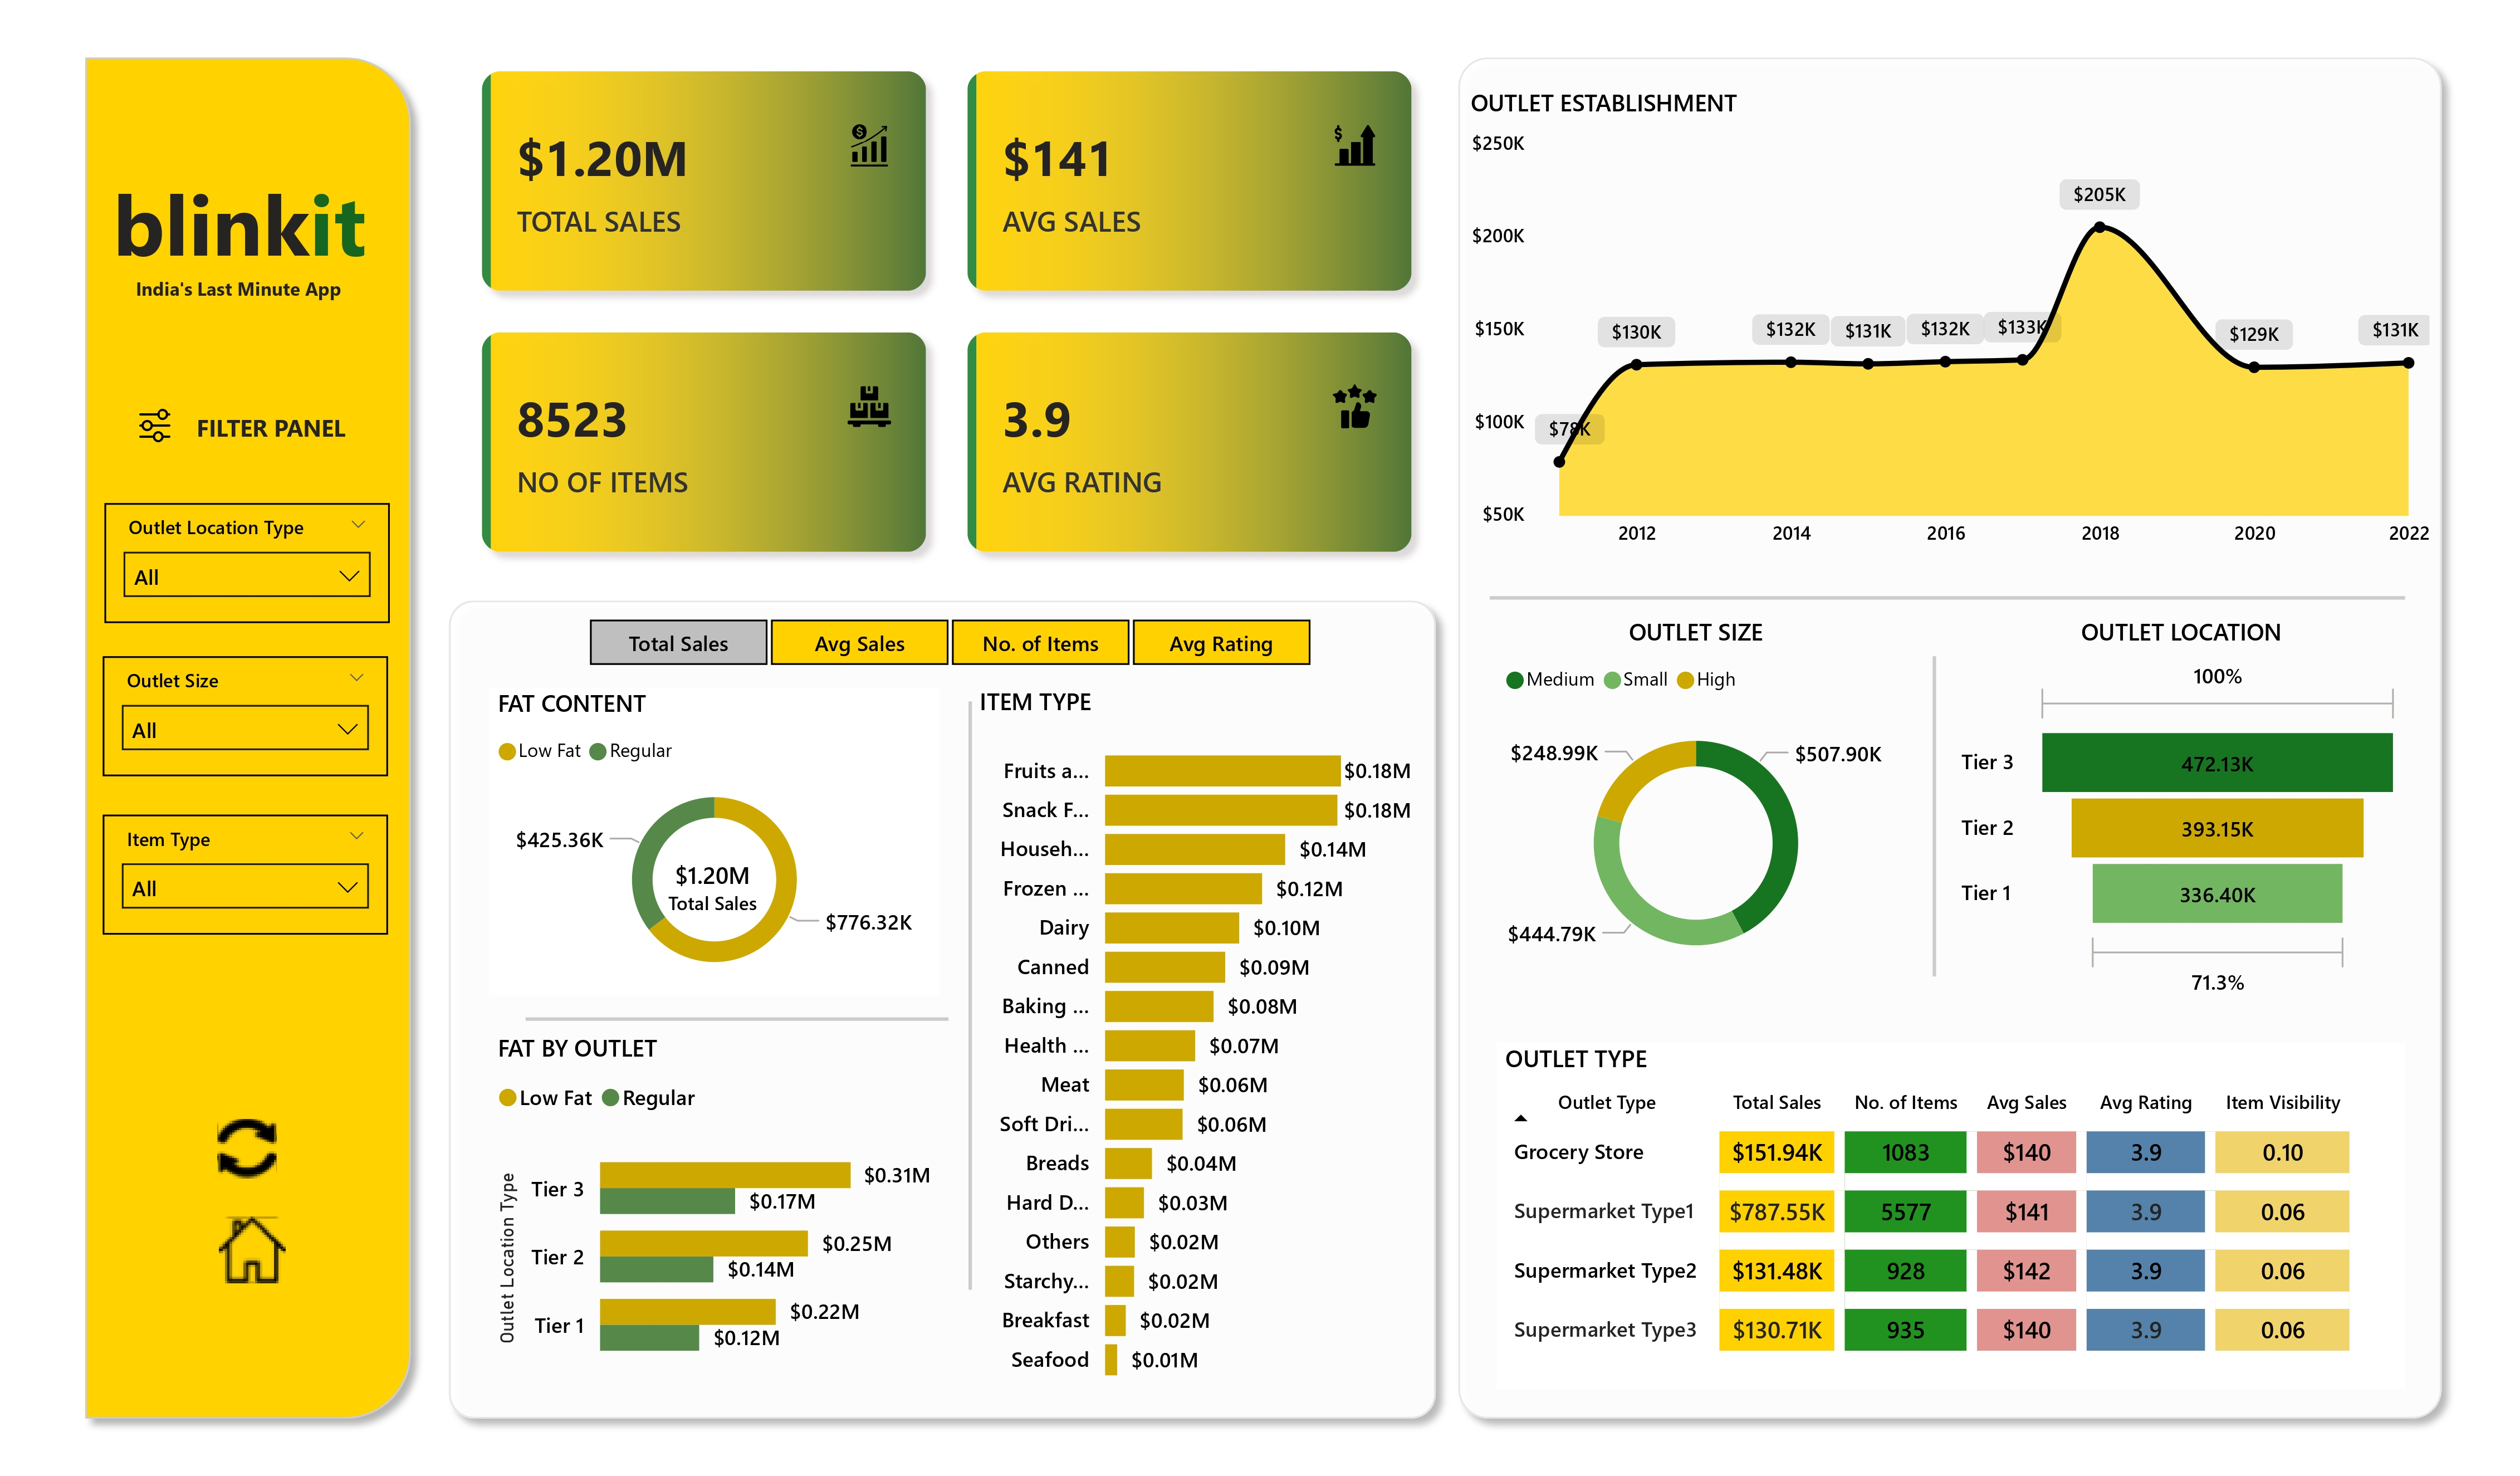

The page's visual inventory and layout, read from the dashboard file:
{"tool":"powerbi","page":{"name":"Dashboard","canvas":[1400,800],"ordinal":0},"visuals":[{"type":"shape","box":[16.1,0,205.3,800.3],"z":0},{"type":"textbox","box":[35.9,65.6,170.7,84.1],"z":1000},{"type":"textbox","box":[49.5,127.4,138.5,28.4],"z":2000},{"type":"cardVisual","fields":{"Data":["BlinkIT Grocery Data.Total Sales","BlinkIT Grocery Data.Avg Sales","BlinkIT Grocery Data.No. of Items","BlinkIT Grocery Data.Avg Rating"]},"box":[236.2,0,569,311.7],"z":3000},{"type":"shape","box":[225.1,311.7,585,488.6],"z":4000},{"type":"donutChart","title":"FAT CONTENT","fields":{"Y":["BlinkIT Grocery Data.Total Sales"],"Category":["BlinkIT Grocery Data.Item Fat Content"]},"box":[257.3,371.1,258.5,176.9],"z":5000},{"type":"slicer","fields":{"Values":["Metrics .Metrics "]},"box":[289.4,325.3,463.8,39.6],"z":6000},{"type":"cardVisual","fields":{"Data":["BlinkIT Grocery Data.Total Sales"]},"box":[342,451.9,87.7,55.6],"z":7000},{"type":"clusteredBarChart","title":"FAT BY OUTLET","fields":{"Y":["BlinkIT Grocery Data.Total Sales"],"Category":["BlinkIT Grocery Data.Outlet Location Type"],"Series":["BlinkIT Grocery Data.Item Fat Content"]},"box":[257.3,569,258.5,205.3],"z":8000},{"type":"shape","box":[278.3,547.9,242.4,27.2],"z":9000},{"type":"shape","box":[518.1,379,31.4,338.1],"z":10000},{"type":"barChart","title":"ITEM TYPE","fields":{"Y":["BlinkIT Grocery Data.Total Sales"],"Category":["BlinkIT Grocery Data.Item Type"]},"box":[534.3,369.8,257.3,410.6],"z":11000},{"type":"shape","box":[805.2,0,582.6,800.3],"z":12000},{"type":"lineChart","title":"OUTLET ESTABLISHMENT","fields":{"Y":["BlinkIT Grocery Data.Total Sales"],"Category":["BlinkIT Grocery Data.Outlet Establishment Year"]},"box":[816.3,26,560.3,273.3],"z":13000},{"type":"shape","box":[832.4,309.2,525.7,21],"z":14000},{"type":"donutChart","title":"OUTLET SIZE","fields":{"Y":["BlinkIT Grocery Data.Total Sales"],"Category":["BlinkIT Grocery Data.Outlet Size"]},"box":[836.1,330.2,228.8,216.5],"z":15000},{"type":"shape","box":[1078.5,352.5,17.3,184.3],"z":16000},{"type":"funnel","title":"OUTLET LOCATION","fields":{"Category":["BlinkIT Grocery Data.Outlet Location Type"],"Y":["Sum(BlinkIT Grocery Data.Sales)"]},"box":[1098.3,330.2,262.2,225.1],"z":17000},{"type":"pivotTable","title":"OUTLET TYPE","fields":{"Rows":["BlinkIT Grocery Data.Outlet Type"],"Values":["BlinkIT Grocery Data.Total Sales","BlinkIT Grocery Data.No. of Items","BlinkIT Grocery Data.Avg Sales","BlinkIT Grocery Data.Avg Rating","Avg(BlinkIT Grocery Data.Item Visibility)"]},"box":[836.1,575.1,522,199.1],"z":18000},{"type":"slicer","fields":{"Values":["BlinkIT Grocery Data.Outlet Location Type"]},"box":[35.9,264.7,164.5,69.3],"z":19000},{"type":"slicer","fields":{"Values":["BlinkIT Grocery Data.Outlet Size"]},"box":[34.6,352.5,164.5,69.3],"z":20000},{"type":"slicer","fields":{"Values":["BlinkIT Grocery Data.Item Type"]},"box":[34.6,444,164,69],"z":21000},{"type":"textbox","box":[84.1,207.8,121.2,29.7],"z":22000},{"type":"image","box":[50.7,204.1,28.4,33.4],"z":23000},{"type":"actionButton","box":[94.1,670.8,53.2,46.4],"z":24000},{"type":"actionButton","box":[96.8,614.9,42.3,42.3],"z":25000}]}

Visuals, with their boxes on the page's 1400x800 design canvas (x1, y1, x2, y2). These are canvas units, not pixel positions in the 2520x1476 screenshot, which may show the page scaled, cropped or inside an application window:
shape: select_region(16, 0, 221, 800)
textbox: select_region(36, 66, 207, 150)
textbox: select_region(50, 127, 188, 156)
cardVisual - BlinkIT Grocery Data.Total Sales x BlinkIT Grocery Data.Avg Sales: select_region(236, 0, 805, 312)
shape: select_region(225, 312, 810, 800)
"FAT CONTENT" donutChart: select_region(257, 371, 516, 548)
slicer - Metrics .Metrics : select_region(289, 325, 753, 365)
cardVisual - BlinkIT Grocery Data.Total Sales: select_region(342, 452, 430, 508)
"FAT BY OUTLET" clusteredBarChart: select_region(257, 569, 516, 774)
shape: select_region(278, 548, 521, 575)
shape: select_region(518, 379, 550, 717)
"ITEM TYPE" barChart: select_region(534, 370, 792, 780)
shape: select_region(805, 0, 1388, 800)
"OUTLET ESTABLISHMENT" lineChart: select_region(816, 26, 1377, 299)
shape: select_region(832, 309, 1358, 330)
"OUTLET SIZE" donutChart: select_region(836, 330, 1065, 547)
shape: select_region(1078, 352, 1096, 537)
"OUTLET LOCATION" funnel: select_region(1098, 330, 1360, 555)
"OUTLET TYPE" pivotTable: select_region(836, 575, 1358, 774)
slicer - BlinkIT Grocery Data.Outlet Location Type: select_region(36, 265, 200, 334)
slicer - BlinkIT Grocery Data.Outlet Size: select_region(35, 352, 199, 422)
slicer - BlinkIT Grocery Data.Item Type: select_region(35, 444, 199, 513)
textbox: select_region(84, 208, 205, 238)
image: select_region(51, 204, 79, 238)
actionButton: select_region(94, 671, 147, 717)
actionButton: select_region(97, 615, 139, 657)
